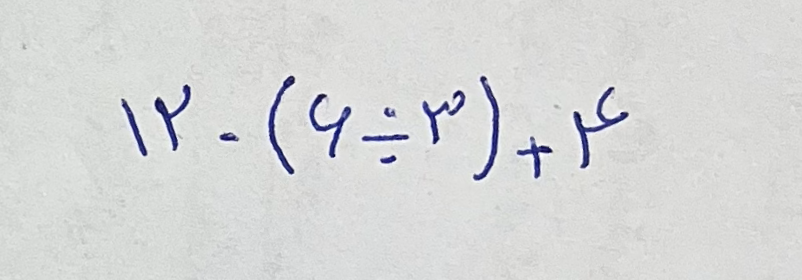character: (571, 85, 629, 172), (361, 102, 412, 165), (470, 74, 500, 181), (266, 74, 297, 177), (307, 91, 351, 161), (419, 87, 468, 145), (156, 82, 192, 152), (116, 95, 149, 160), (516, 134, 555, 180), (214, 125, 244, 144)
